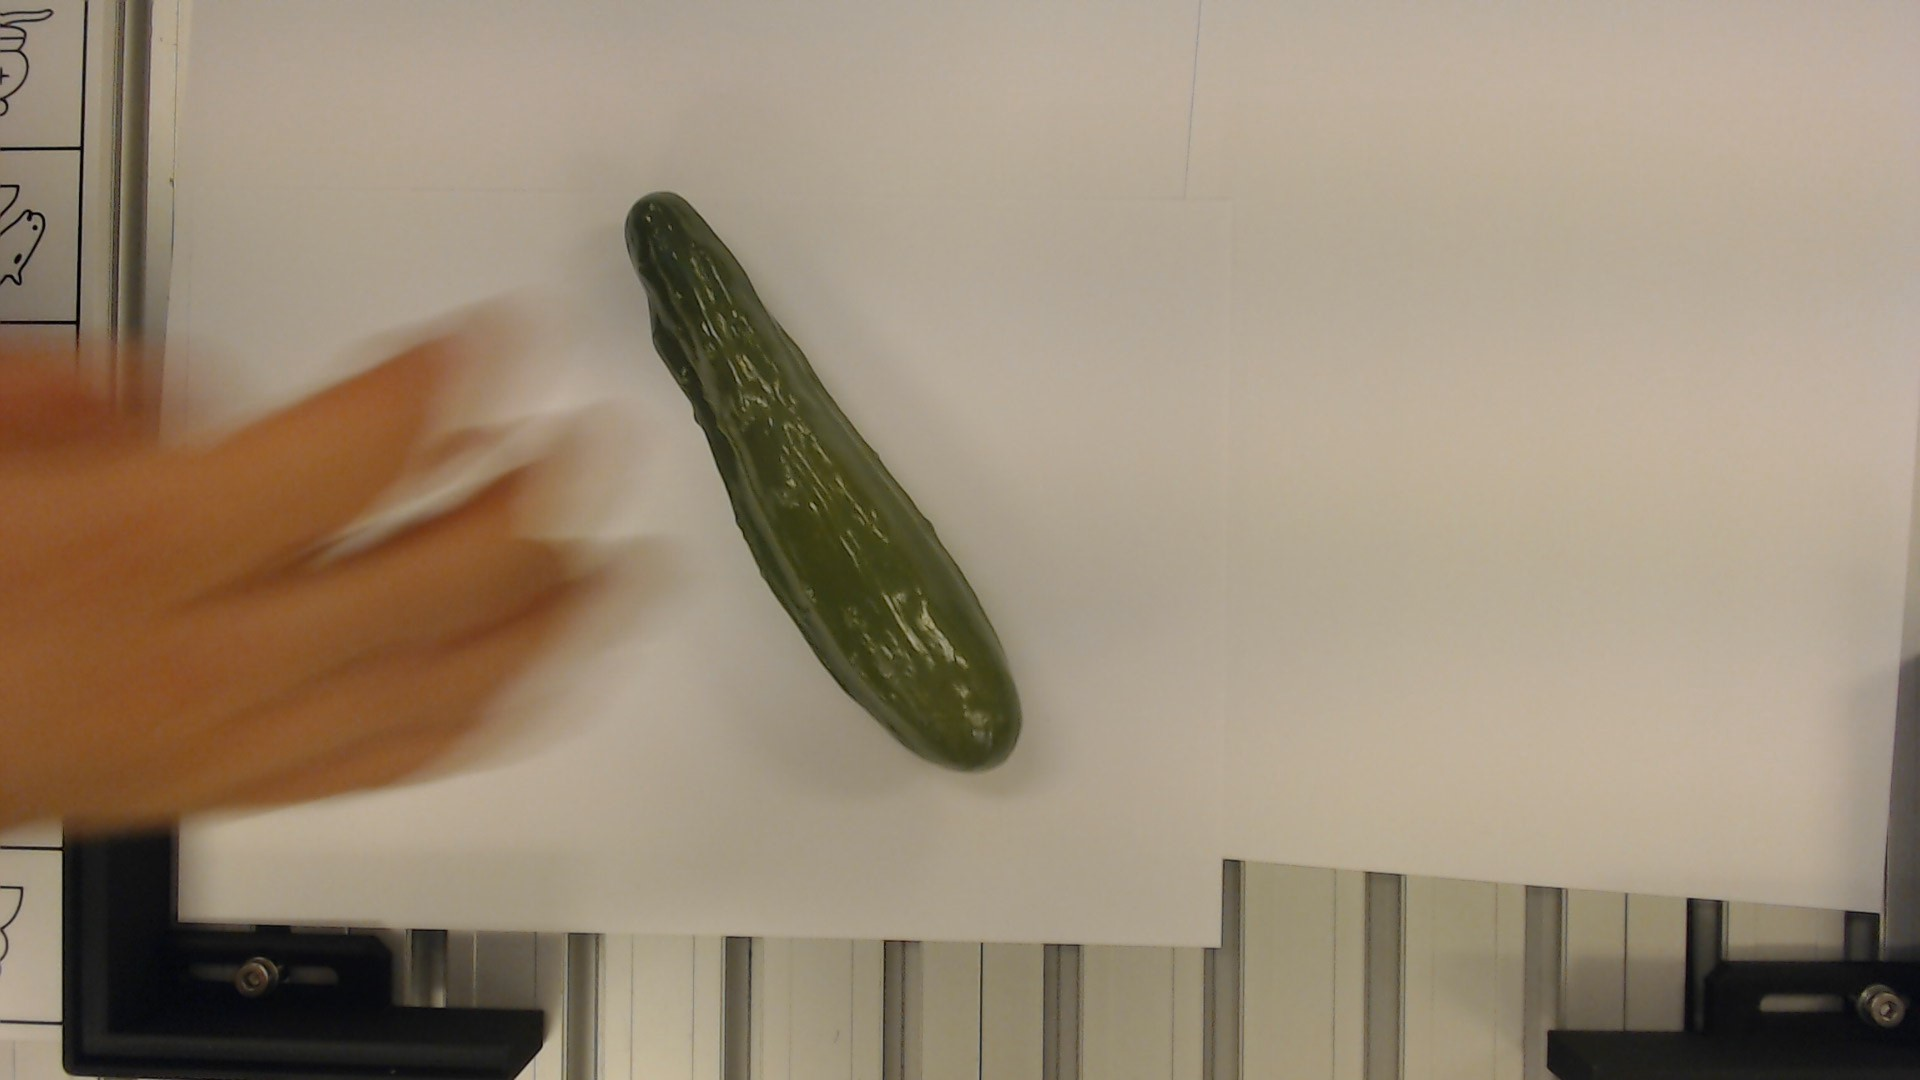Cucumber: (612, 185, 1025, 779)
